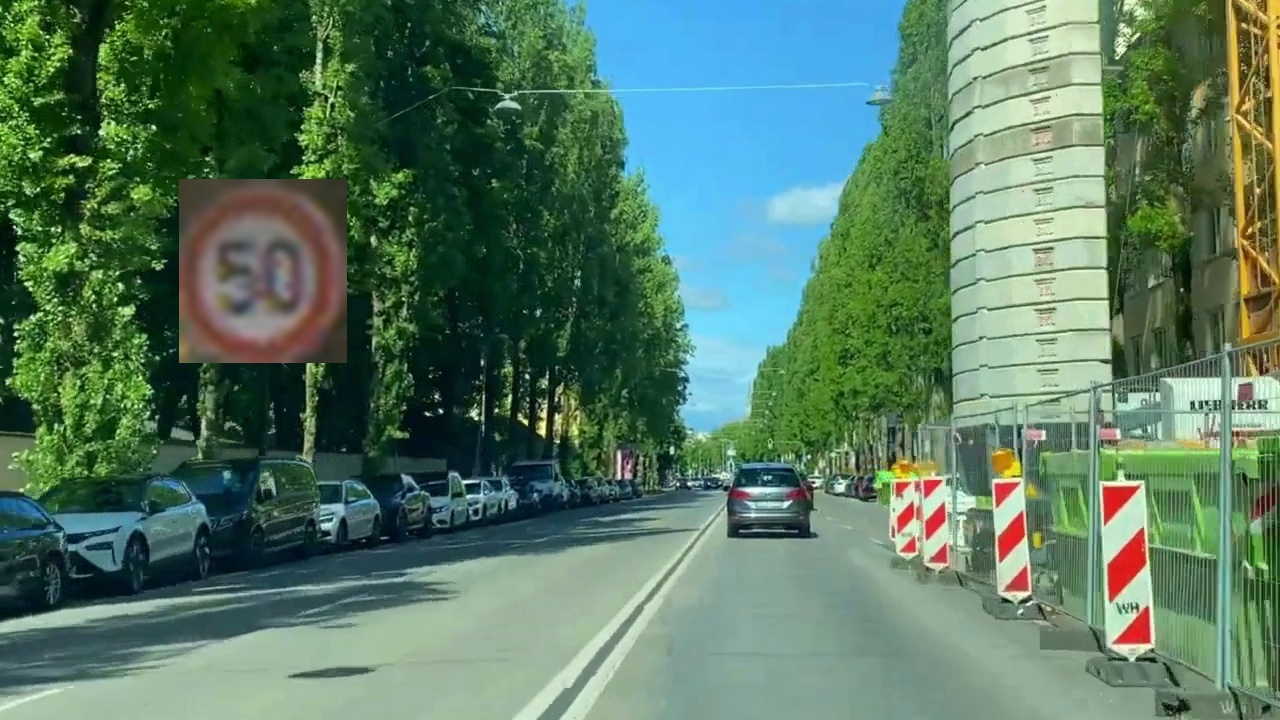Speed 50: (179, 179, 347, 363)
